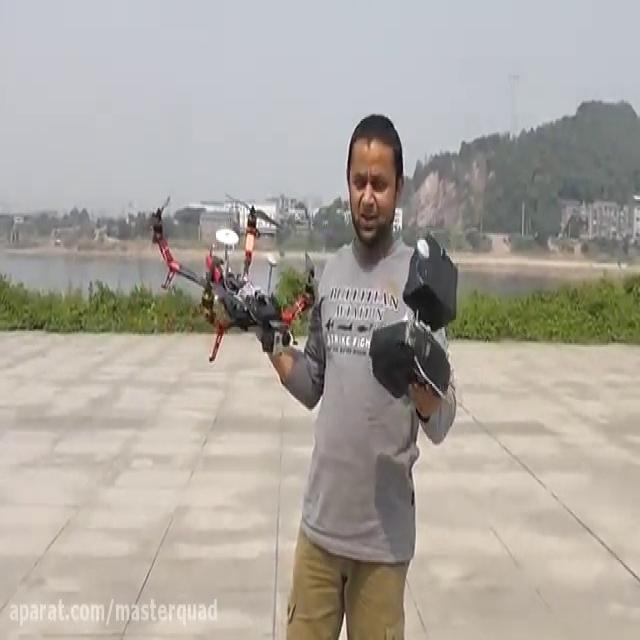drone: (146, 190, 320, 366)
